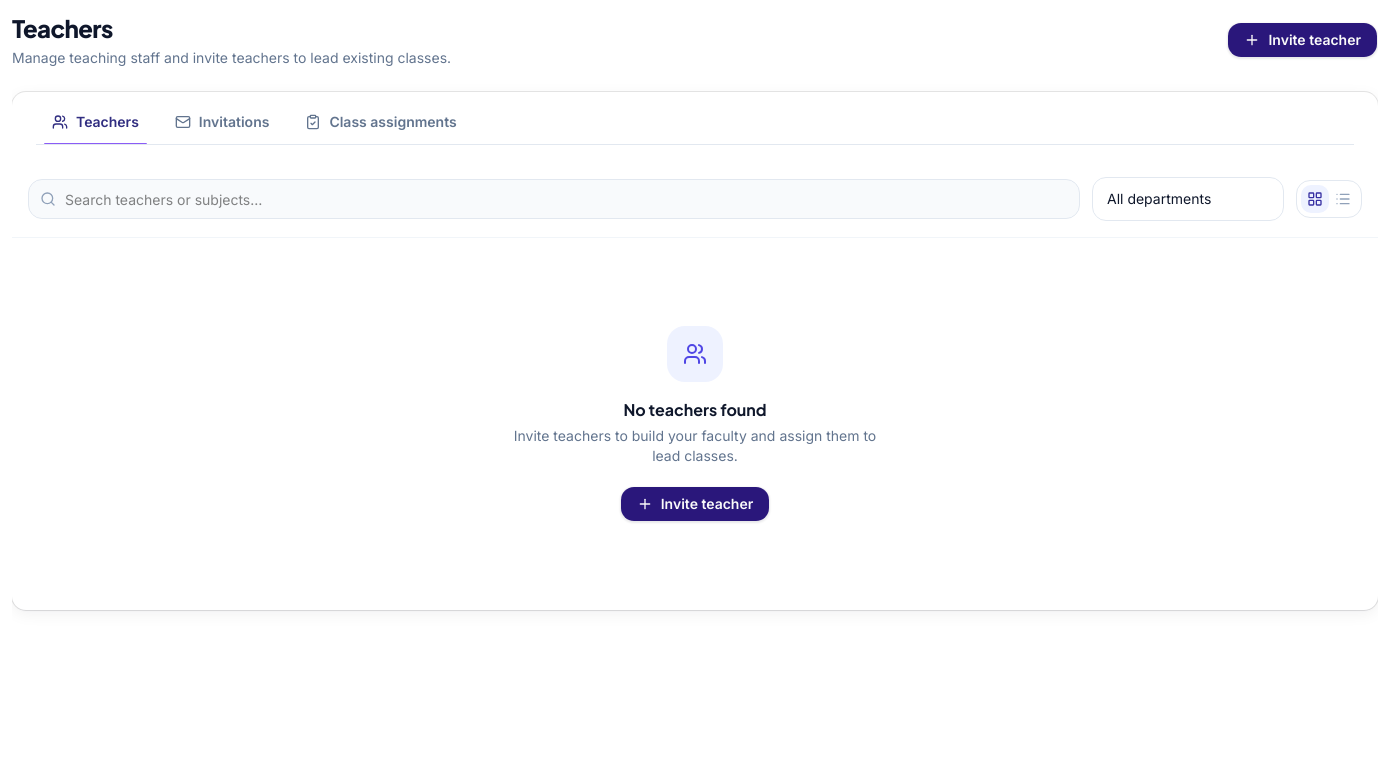
TeachersView › displays department for senior secondary classes in class assignments tab
Click the tab "Class assignments": (381, 122) [289,100,473,144]
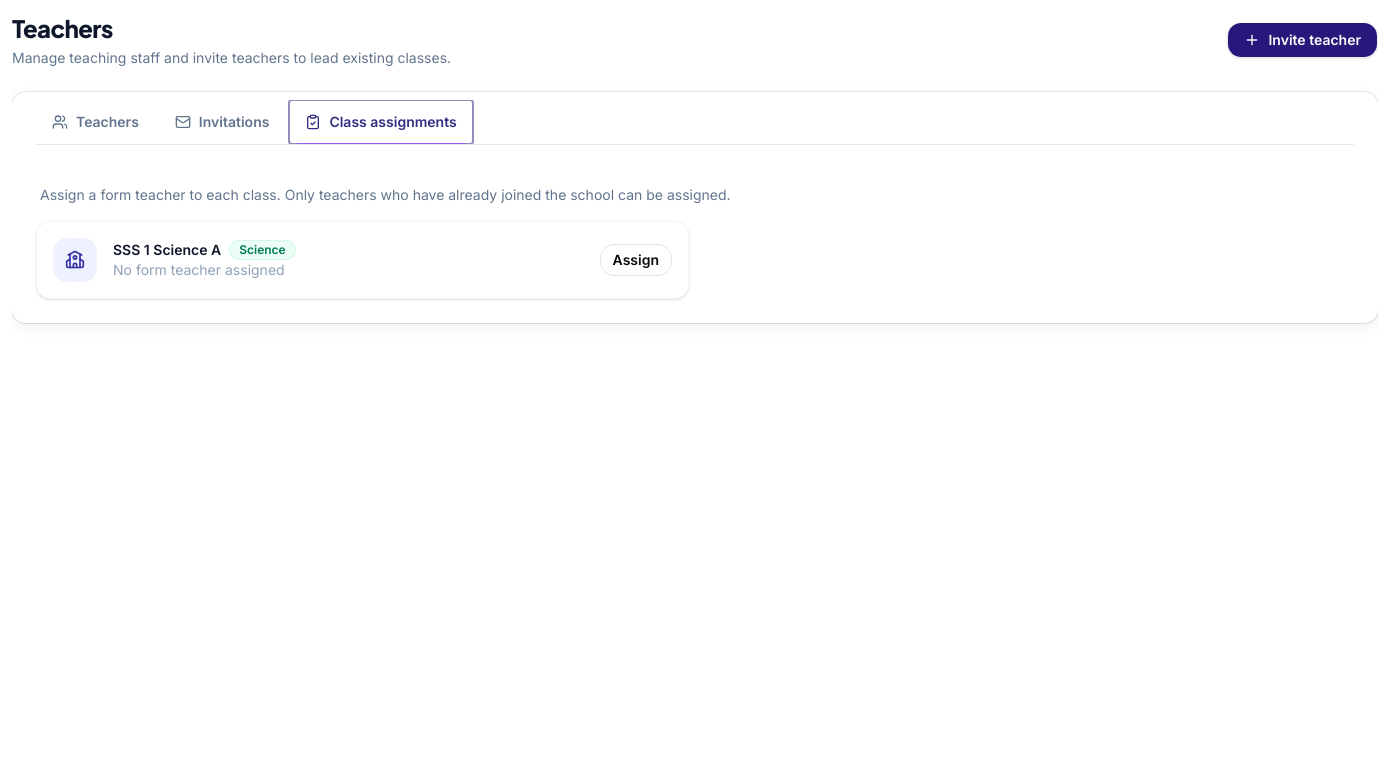
expect the text "SSS 1 Science A" is shown: met, box [113,240,221,260]
expect the text "Science" is shown: met, box [229,240,296,260]
